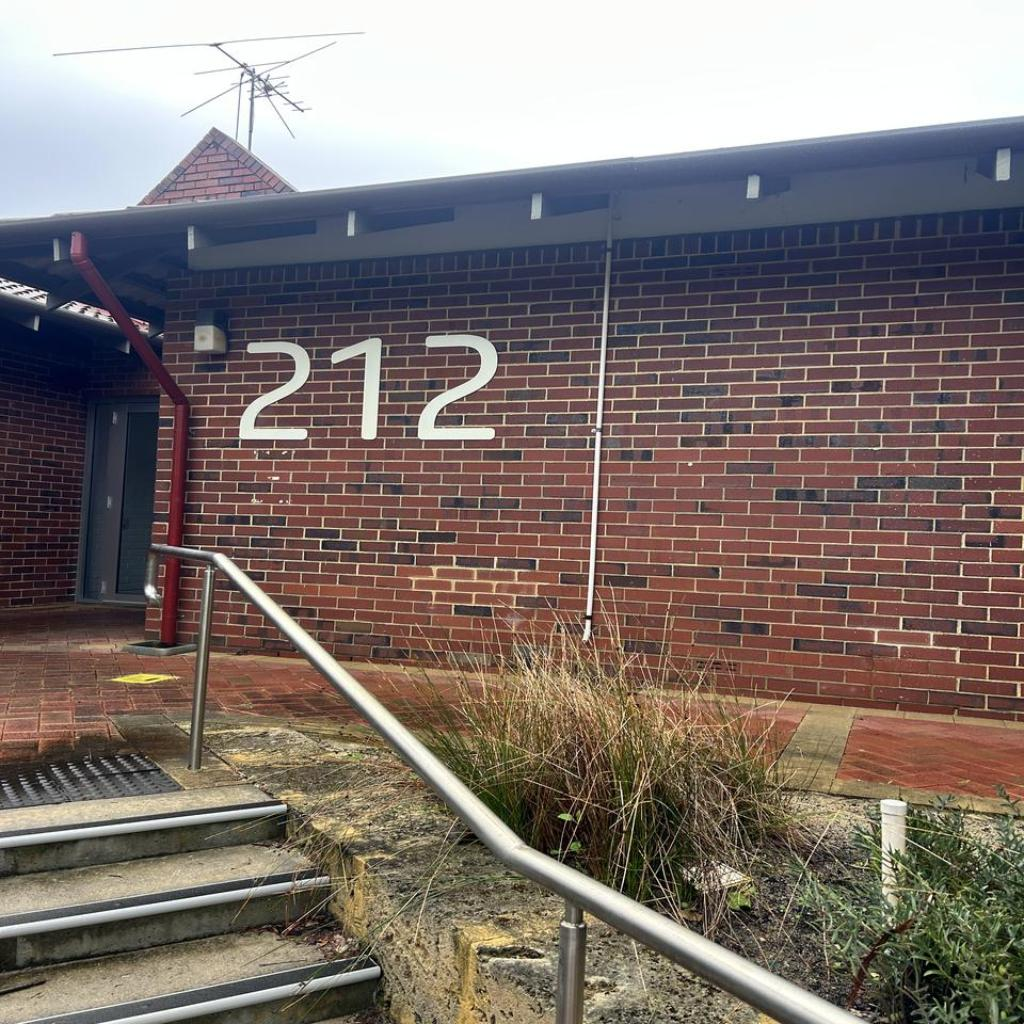BuildingCodes: (236, 331, 498, 443)
